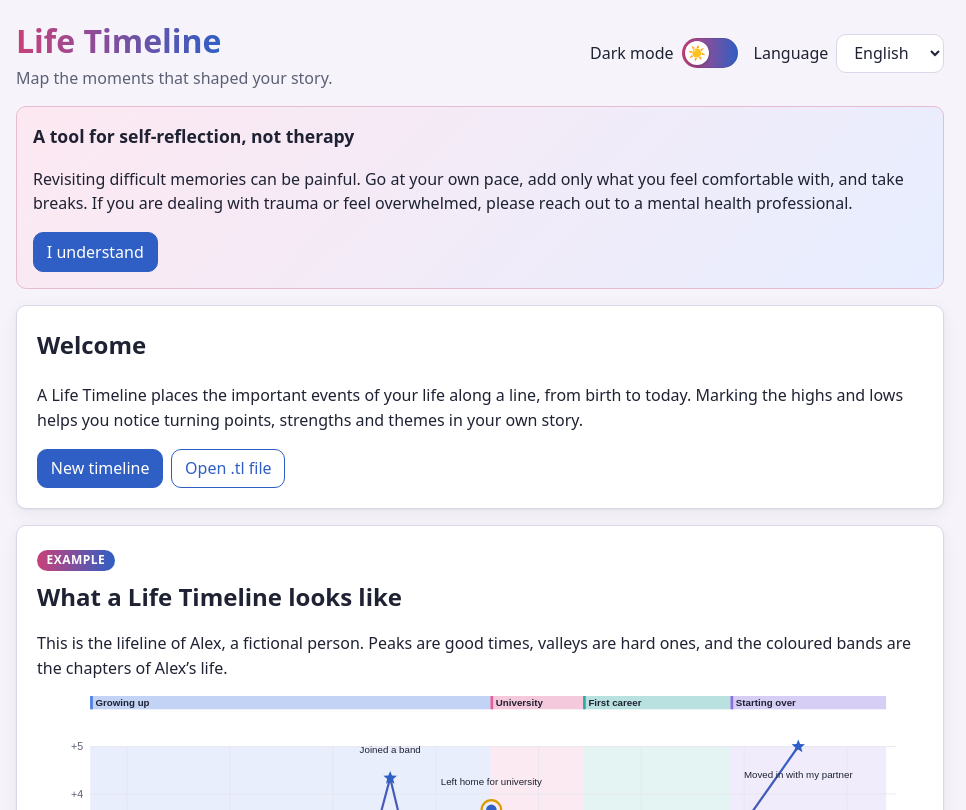
App › switches to Spanish from the language selector
The width and height of the screenshot is (966, 810).
Select "Español" in the dropdown labelled "Language": (890, 53) [836,34,944,73]
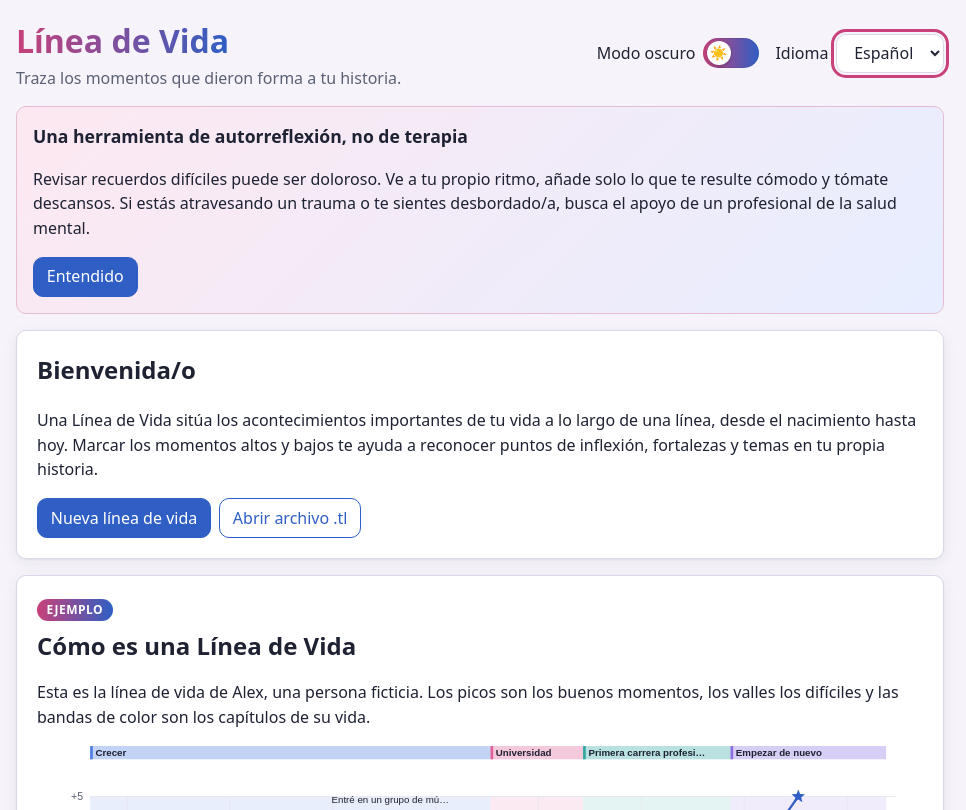
expect the heading "Línea de Vida" is shown: met, box [16,16,229,66]
